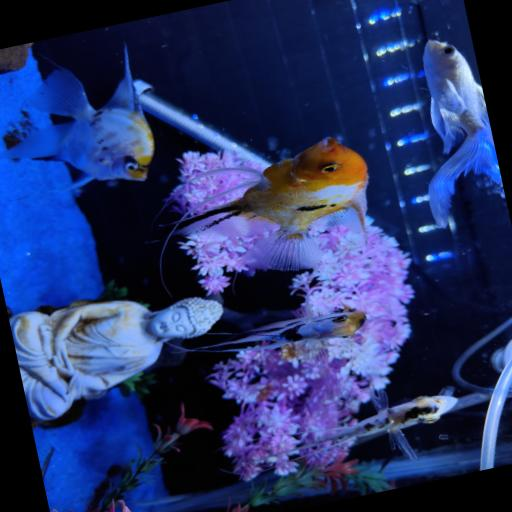Fish: (167, 138, 367, 270), (0, 47, 153, 189), (423, 40, 502, 227), (254, 390, 457, 461), (179, 305, 365, 356)
